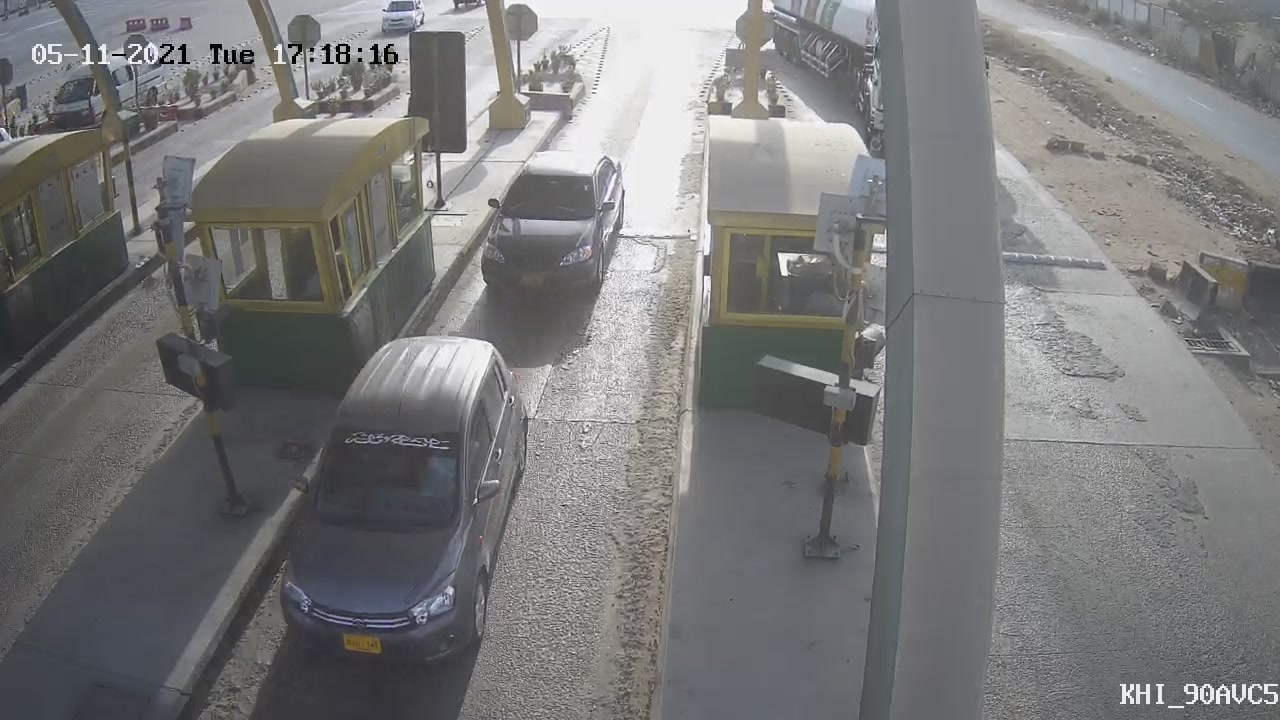F1: (459, 138, 640, 317)
